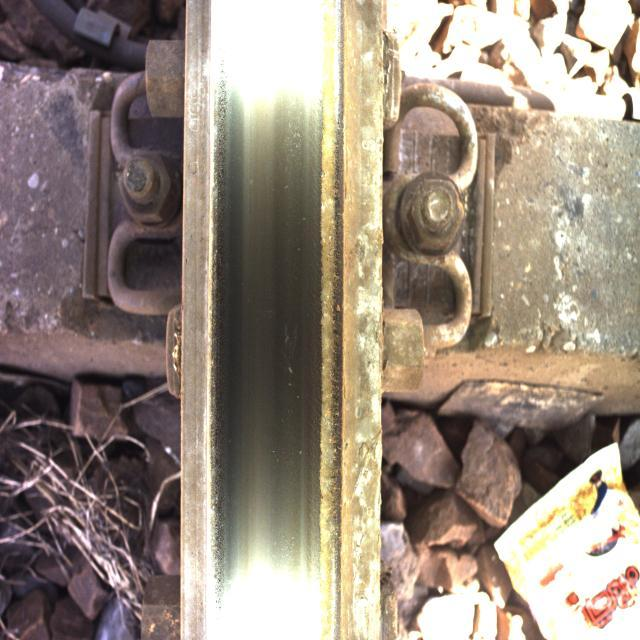break: (218, 53, 310, 622)
